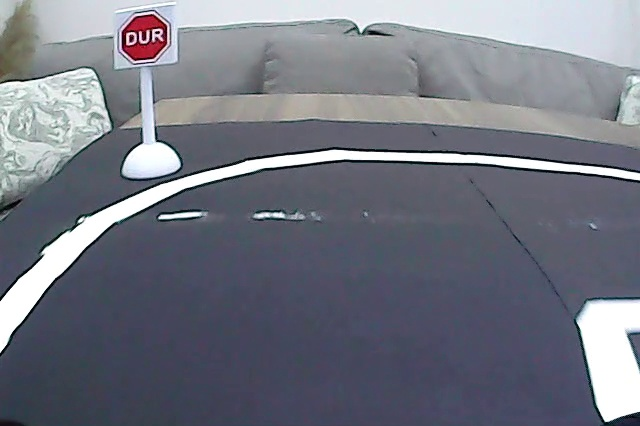stop sign: (115, 9, 172, 66)
